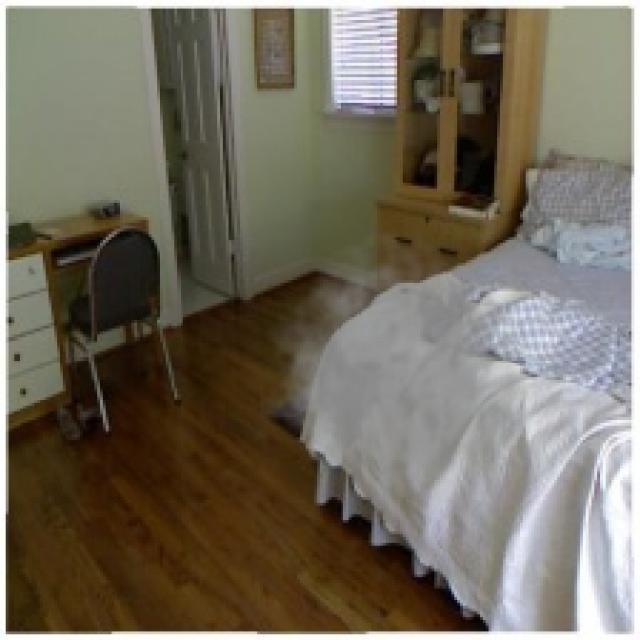smoke: (260, 229, 534, 500)
